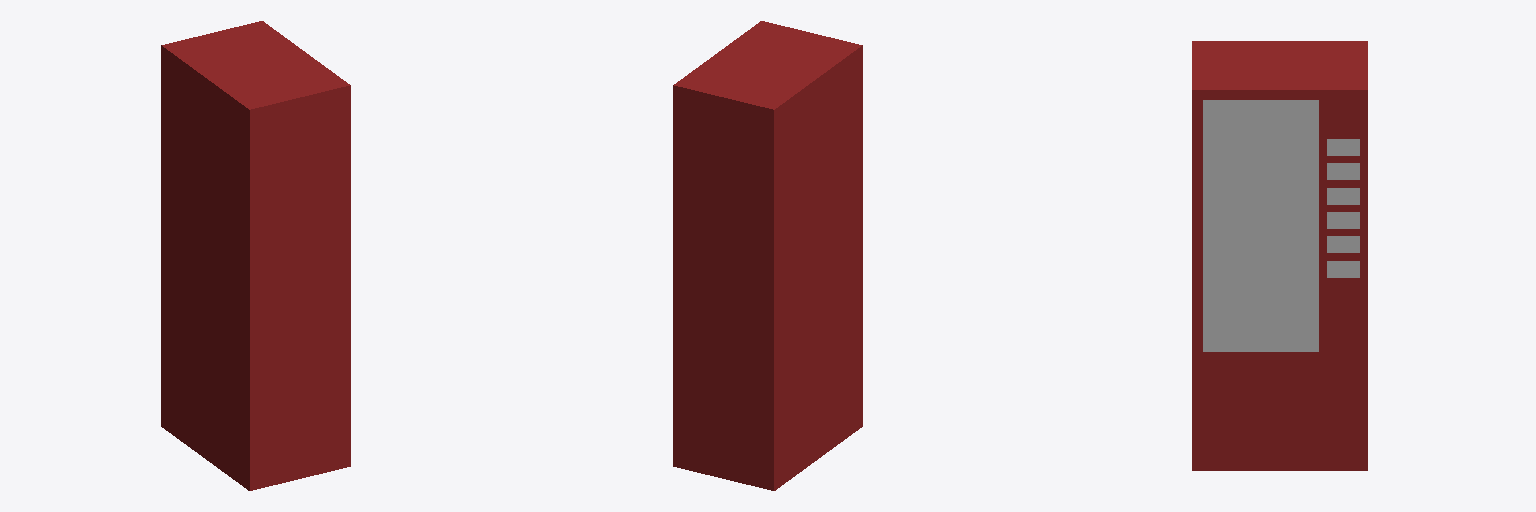
The model's file is shell.3.obj.
The picture shows the model from 3 angles: view 1: azimuth 30°, elevation 25°; view 2: azimuth 150°, elevation 25°; view 3: azimuth 270°, elevation 25°; orthographic projection.
Visible parts, largest first — view 1: Cube.018; view 2: Cube.018; view 3: Cube.018.
Part boxes in pixels (x1,y1,x2,y2): Cube.018: (161, 21, 350, 490); Cube.018: (673, 21, 862, 490); Cube.018: (1192, 41, 1367, 470).
Bounding box in the file's own units: 0.6149 × 2.22 × 0.9296.